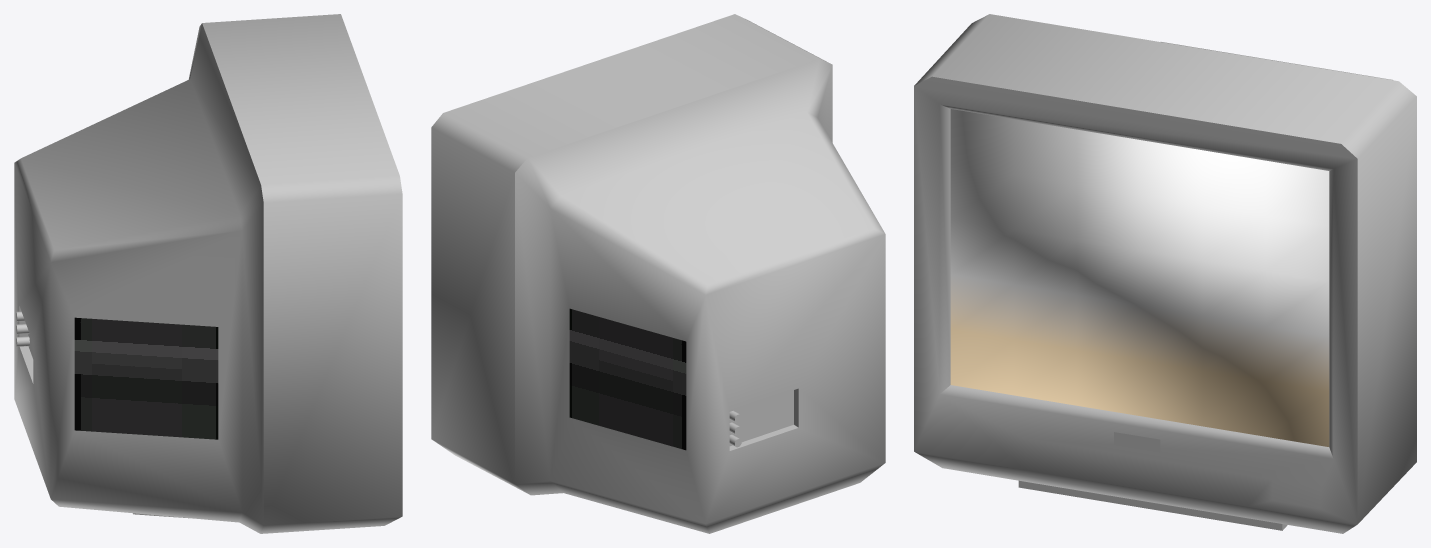
3 views of the same model, side by side, from view 1: azimuth 30°, elevation 25°; view 2: azimuth 150°, elevation 25°; view 3: azimuth 270°, elevation 25° (orthographic). The views are drawn at different scales.
Parts seen in each view (by area): view 1: Joint_0_Object_0, Joint_0_Object_2; view 2: Joint_0_Object_0, Joint_0_Object_2; view 3: Joint_0_Object_0, Joint_0_Object_1.
Part boxes in pixels (x1,y1,x2,y2): Joint_0_Object_0: [14, 14, 402, 533]; Joint_0_Object_2: [74, 317, 218, 439]; Joint_0_Object_0: [431, 14, 885, 533]; Joint_0_Object_2: [569, 308, 686, 450]; Joint_0_Object_0: [914, 14, 1416, 533]; Joint_0_Object_1: [950, 109, 1329, 446].
Size of the model in its own units: 684 by 630 by 693.
